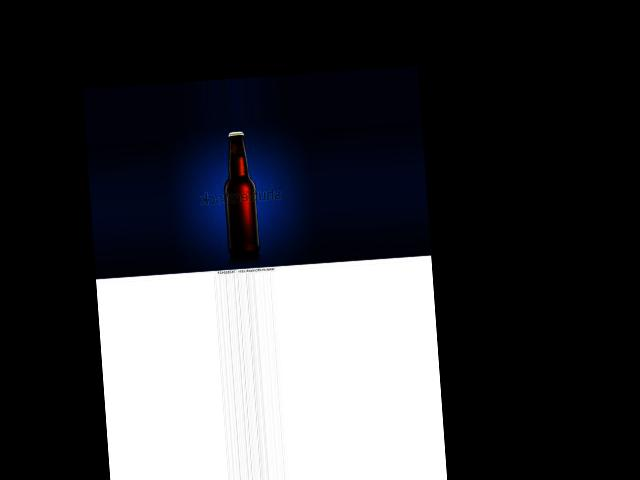beer: (219, 130, 260, 255)
